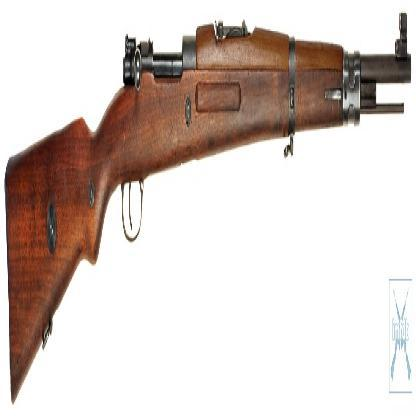gun: (2, 10, 415, 394)
